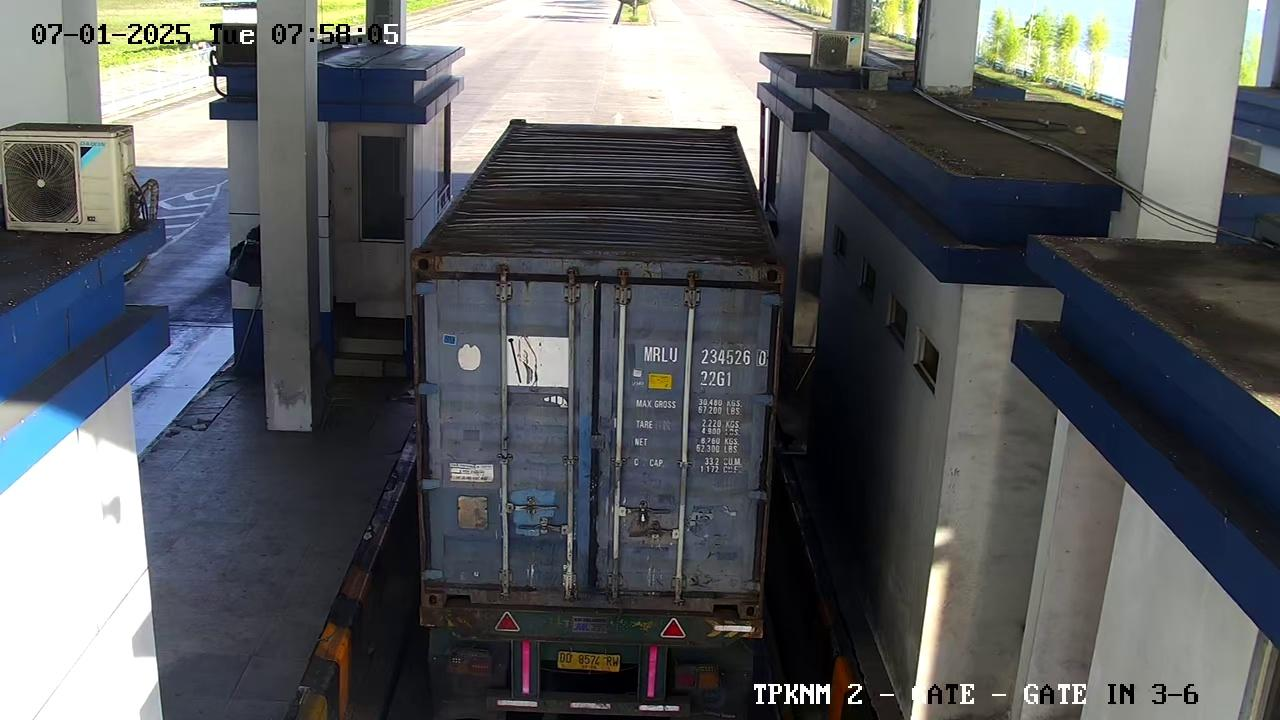Container_ID: (630, 343, 775, 390)
plate_number: (551, 641, 625, 686)
